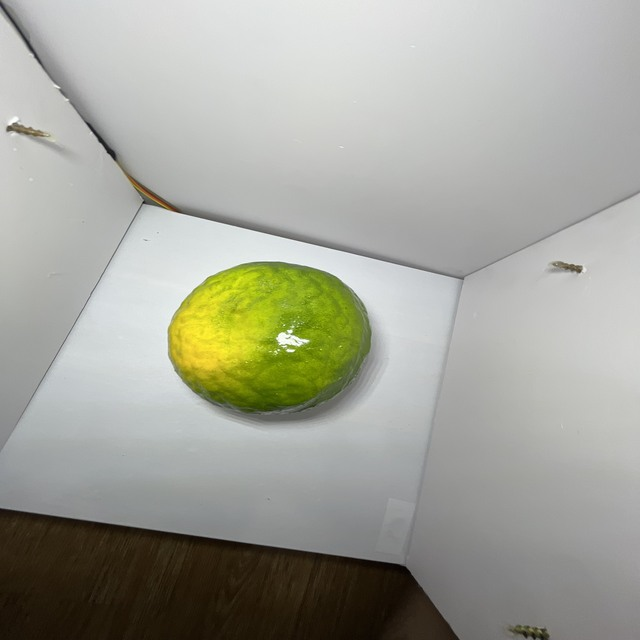Cam xanh: (162, 253, 378, 424)
